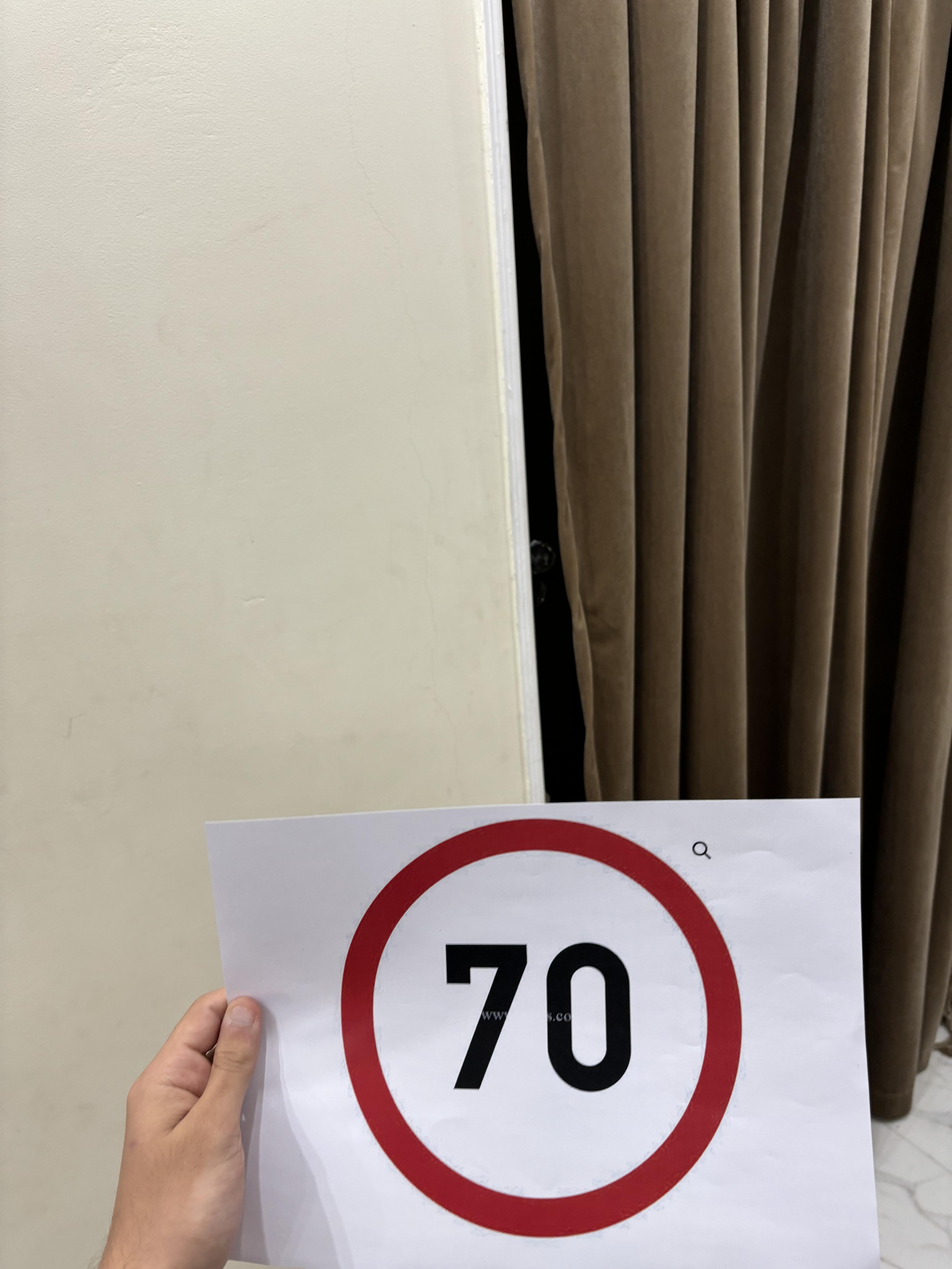70-Speed: (335, 811, 754, 1245)
